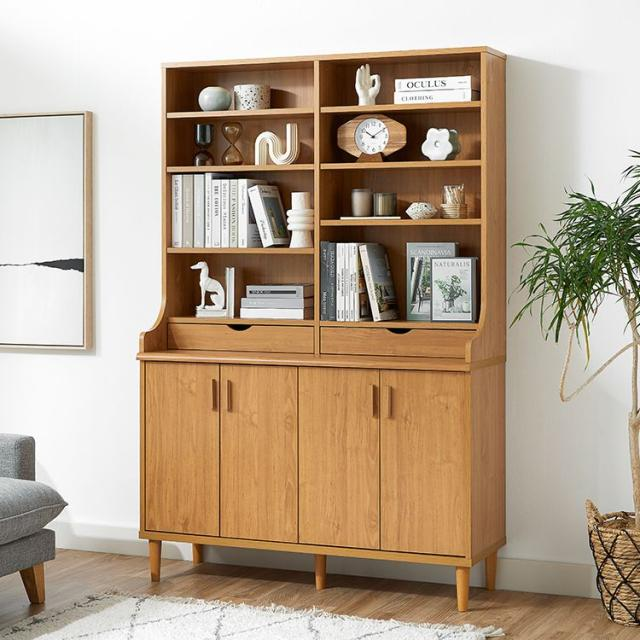vintage shelf: (123, 36, 534, 619)
